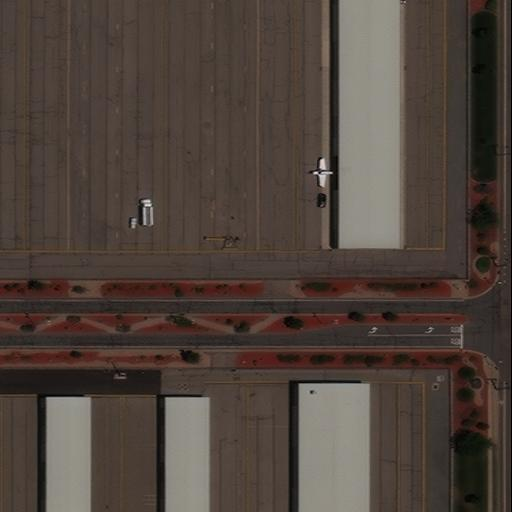Small Civil Transport: (311, 159, 341, 186)
